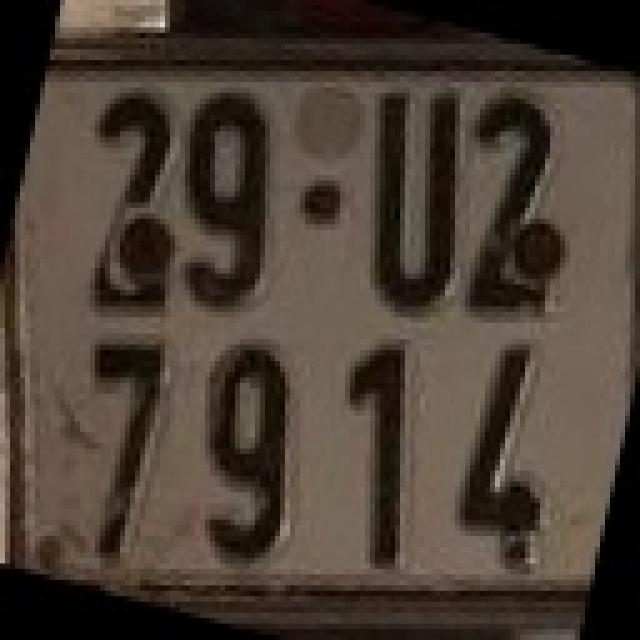1: (335, 334, 425, 574)
2: (465, 88, 575, 322), (80, 82, 175, 317)
4: (450, 334, 555, 574), (465, 88, 575, 317)
7: (80, 334, 170, 563)
9: (190, 334, 300, 569), (180, 82, 280, 312)
U: (360, 82, 465, 306)
